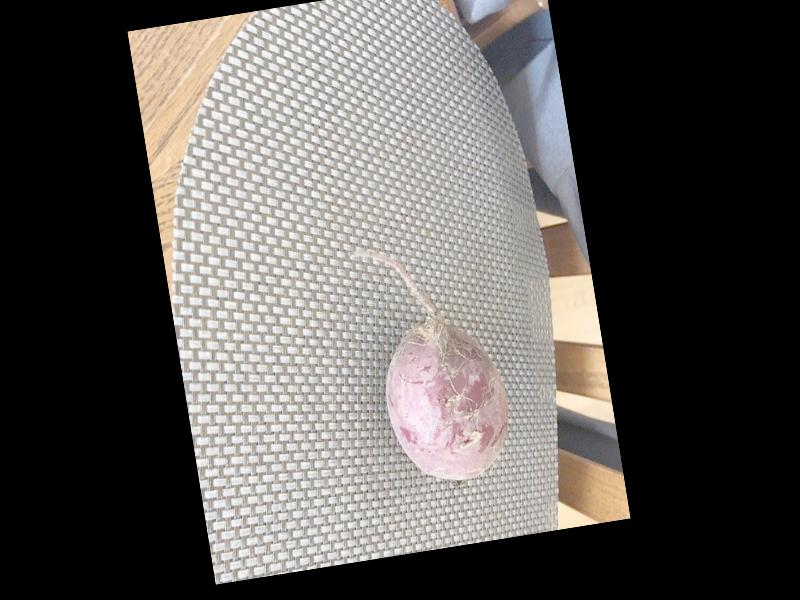Beet: (348, 229, 519, 489)
